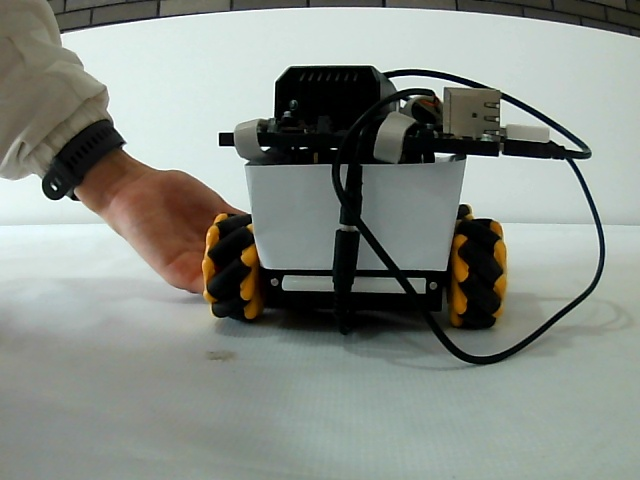car: (212, 65, 502, 316)
paper: (244, 165, 448, 270)
